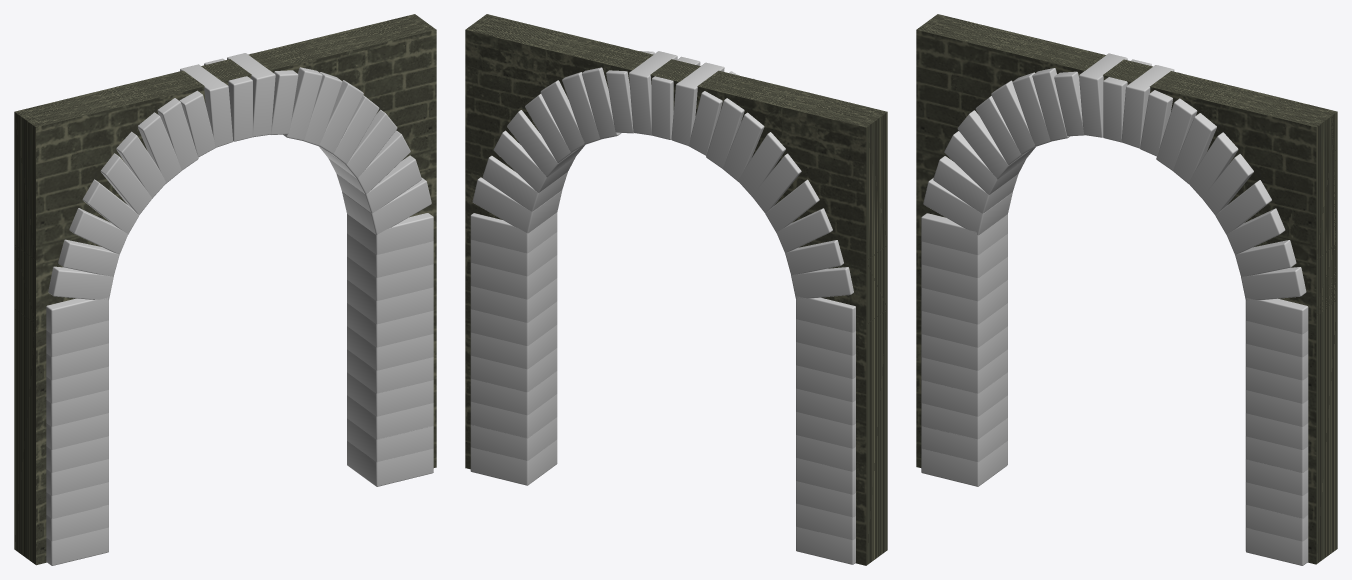
The model's file is Arch_tile.fbx.
3 renders of one model, left to right at view 1: azimuth 30°, elevation 25°; view 2: azimuth 150°, elevation 25°; view 3: azimuth 330°, elevation 25°, orthographic.
Visible parts, largest first — view 1: arch; view 2: arch; view 3: arch.
Part boxes in pixels (x1,y1,x2,y2): arch: (14, 14, 436, 565); arch: (465, 14, 887, 565); arch: (916, 14, 1337, 565).
Size of the model in its own units: 933 by 974 by 122.
